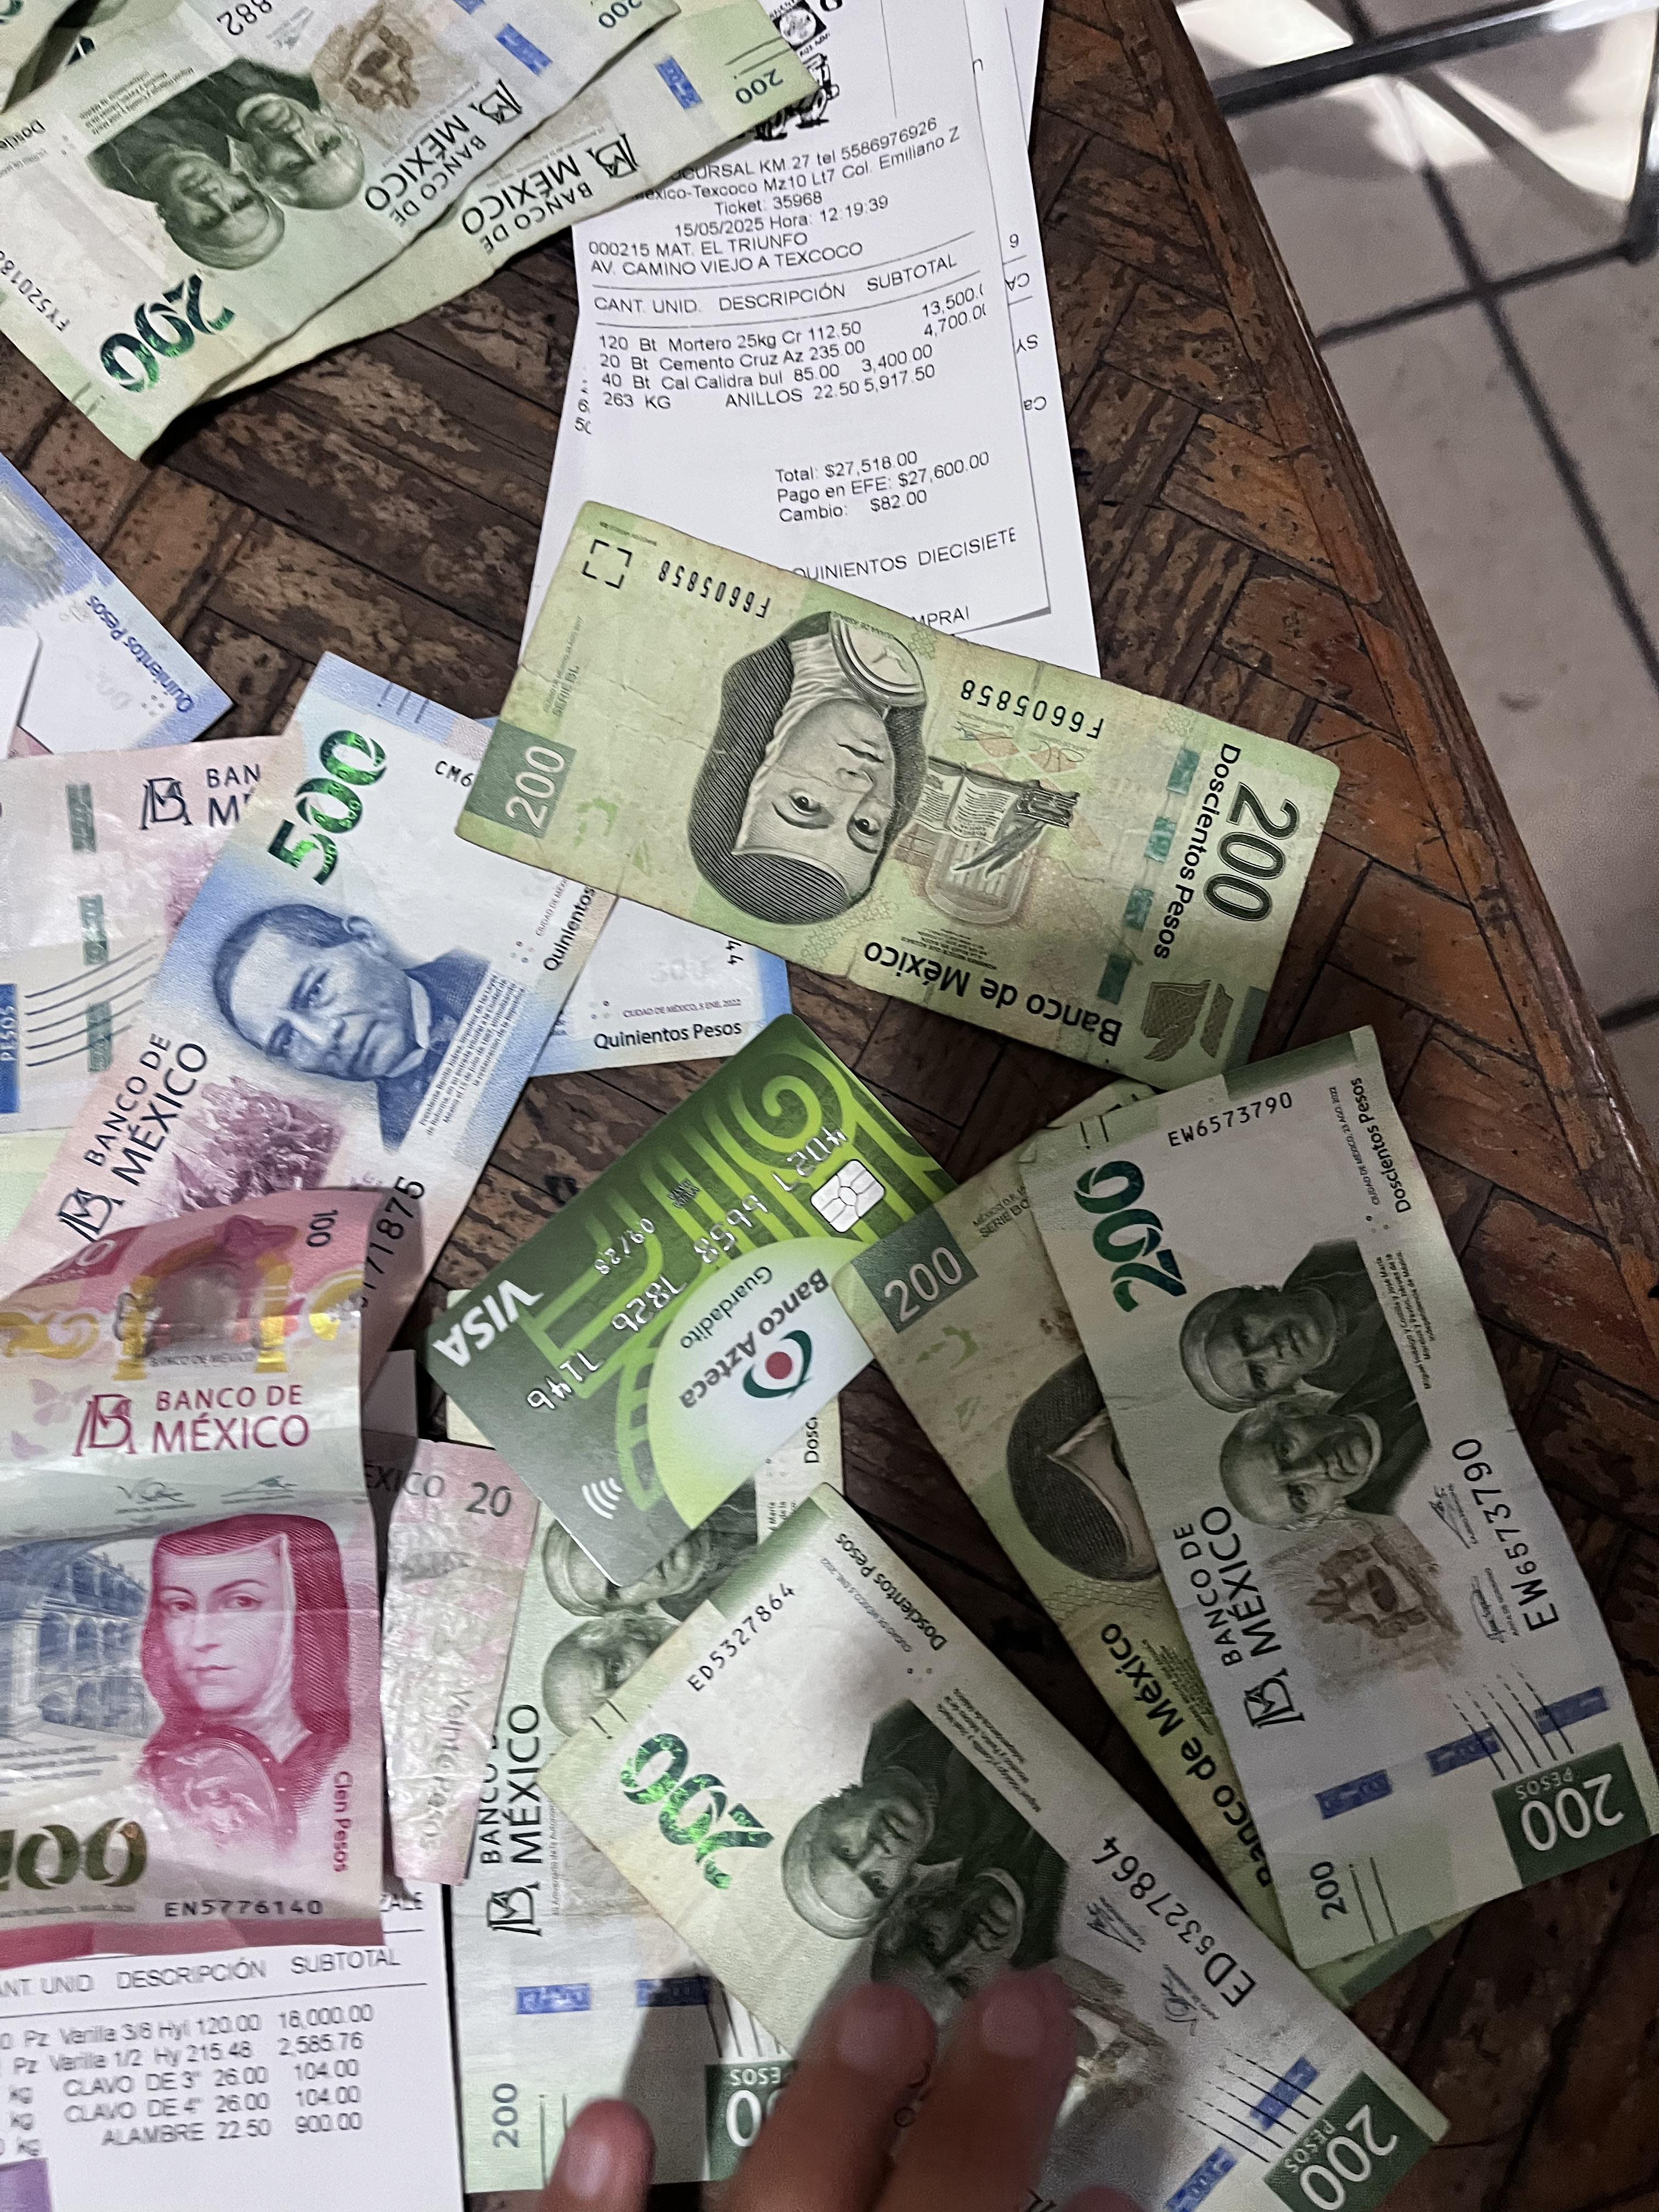100: (0, 1174, 439, 1979)
20: (296, 1425, 580, 1904)
200: (817, 1012, 1542, 2026), (525, 1498, 1469, 2212), (436, 453, 1364, 1136), (1009, 1003, 1659, 1972), (420, 1256, 889, 2212), (0, 0, 866, 472)
500 nuevo: (23, 644, 617, 1493), (0, 745, 821, 1097)
